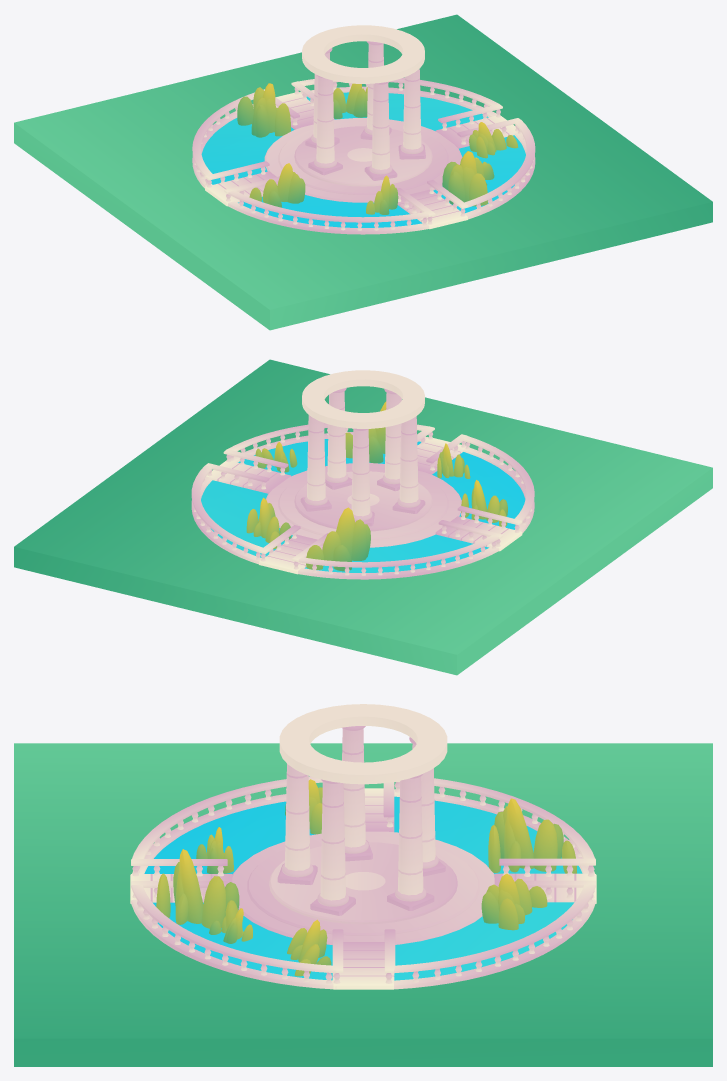
The model's file is DomeUnity.fbx.
3 renders of one model, top to bottom at view 1: azimuth 30°, elevation 25°; view 2: azimuth 150°, elevation 25°; view 3: azimuth 270°, elevation 25°, orthographic. The views are drawn at different scales.
Visible parts, largest first — view 1: Base, Water, Banisteroutside, Dome, Bridge, Steps, Dome_Top, Step, Bush_3, Bush_5, Bush_7, Bush (+2 smaller); view 2: Base, Water, Dome, Banisteroutside, Bridge, Steps, Dome_Top, Step, Bush_3, Bush_6, Bush_7, Bush_5 (+2 smaller); view 3: Base, Banisteroutside, Water, Dome, Steps, Bridge, Dome_Top, Step, Bush_5, Bush_3, Bush_6, Bush (+3 smaller).
Boxes of the visible parts, bbox=[...] form: Base: bbox=[14, 14, 712, 330]; Water: bbox=[201, 92, 525, 227]; Banisteroutside: bbox=[192, 77, 535, 234]; Dome: bbox=[305, 41, 425, 180]; Bridge: bbox=[205, 81, 520, 229]; Steps: bbox=[264, 118, 462, 202]; Dome_Top: bbox=[302, 25, 424, 83]; Step: bbox=[294, 126, 432, 186]; Bush_3: bbox=[237, 83, 290, 137]; Bush_5: bbox=[442, 151, 487, 206]; Bush_7: bbox=[249, 163, 305, 207]; Bush: bbox=[469, 122, 518, 158]; Base: bbox=[14, 359, 712, 675]; Water: bbox=[201, 439, 525, 572]; Dome: bbox=[300, 388, 425, 526]; Banisteroutside: bbox=[191, 423, 534, 579]; Bridge: bbox=[205, 426, 522, 574]; Steps: bbox=[266, 463, 461, 547]; Dome_Top: bbox=[302, 370, 424, 428]; Step: bbox=[294, 471, 432, 531]; Bush_3: bbox=[306, 507, 370, 571]; Bush_6: bbox=[246, 497, 291, 549]; Bush_7: bbox=[461, 480, 507, 526]; Bush_5: bbox=[345, 401, 386, 463]; Base: bbox=[14, 743, 712, 1066]; Banisteroutside: bbox=[131, 776, 595, 989]; Water: bbox=[144, 796, 582, 980]; Dome: bbox=[277, 726, 445, 915]; Steps: bbox=[232, 831, 494, 944]; Bridge: bbox=[130, 782, 596, 989]; Dome_Top: bbox=[279, 704, 447, 784]; Step: bbox=[269, 842, 457, 924]; Bush_5: bbox=[156, 849, 239, 929]; Bush_3: bbox=[488, 798, 576, 873]; Bush_6: bbox=[481, 873, 547, 930]; Bush: bbox=[287, 919, 331, 976].
Size of the model in its own units: 954 by 298 by 954.
